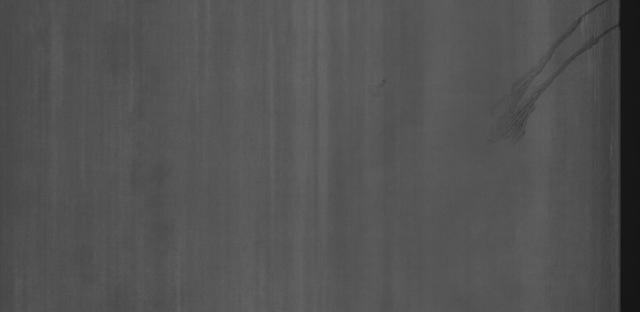water_spot: (494, 0, 616, 151)
